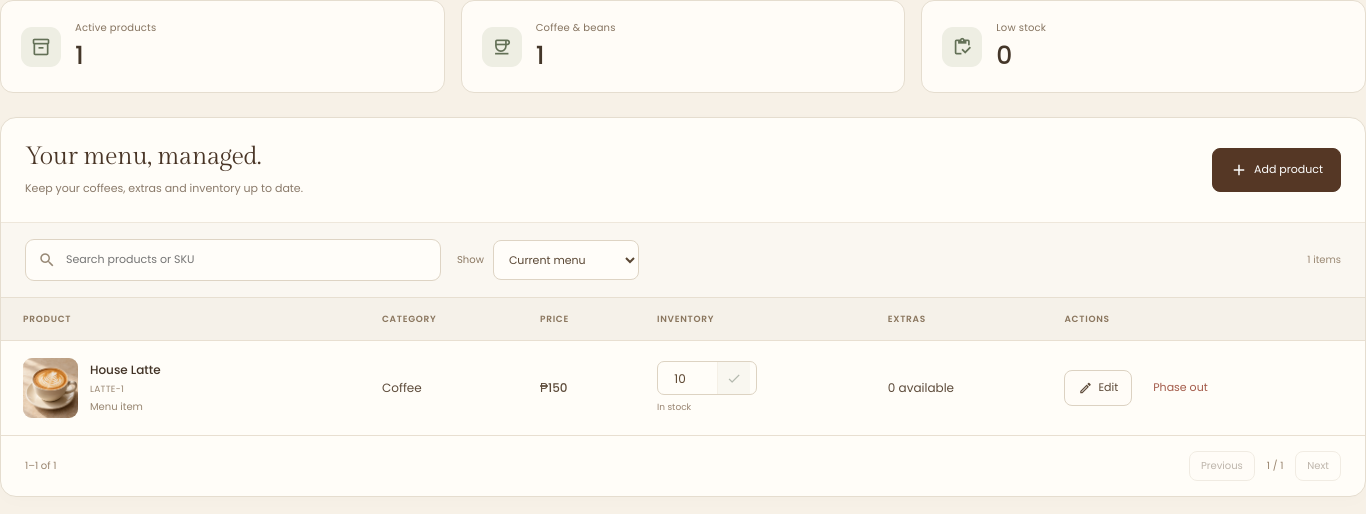
Test: catalog starts with current menu, and retired entries remain searchable through filters
Expected: the text "House Latte" is shown, [90,361,161,379]
Expected: the text "Retired flower" is not shown
Select "Phased out" in the dropdown named "Product filter" at (566, 260), box [493,240,639,280]
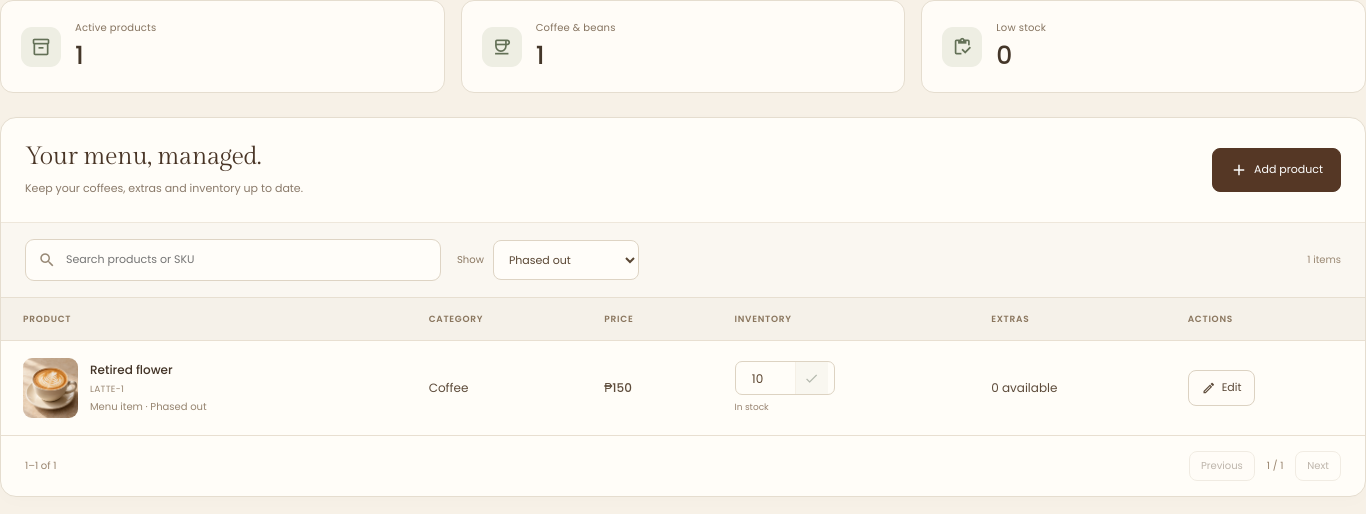
Now the text "Retired flower" is shown, box [90,361,173,378]
Now the text "House Latte" is gone
